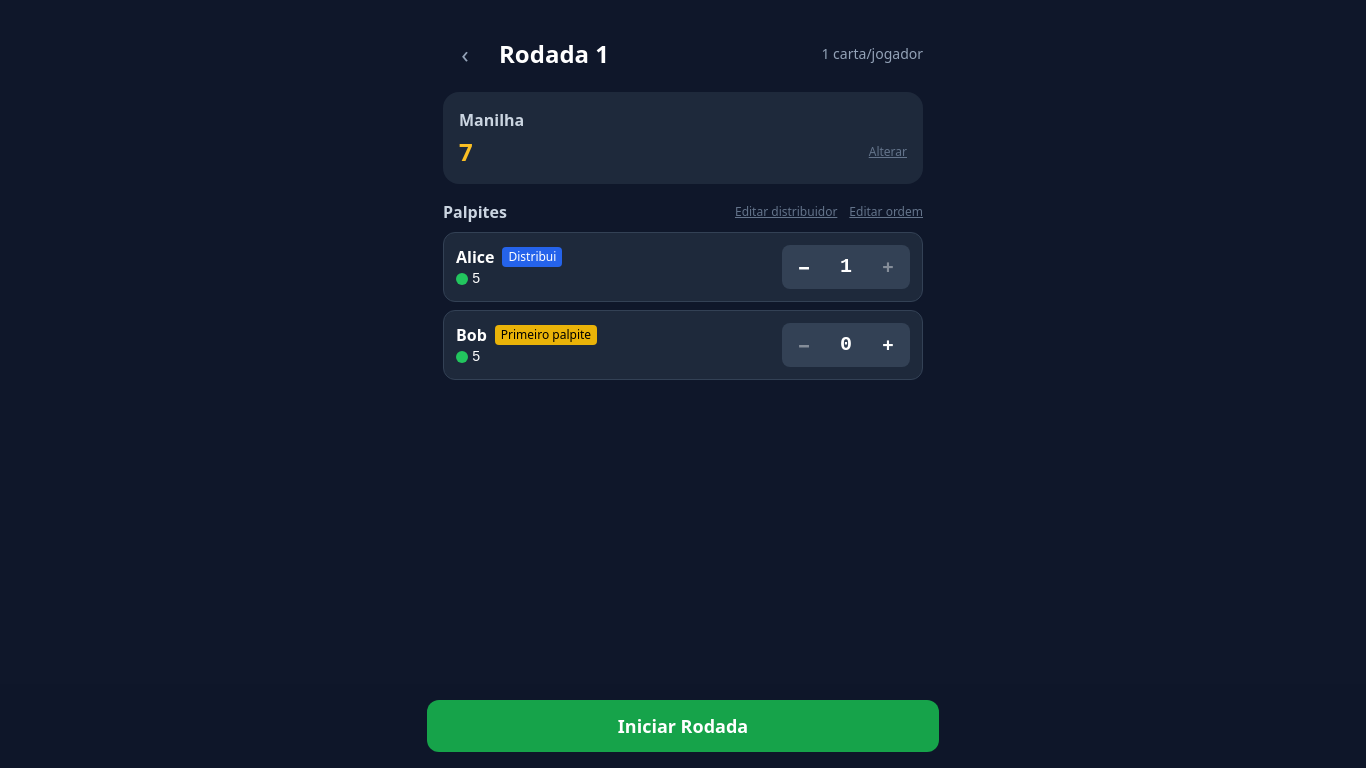
it: BidPhase — edit order button › clicking "Editar ordem" opens PlayerOrderModal
Click the button "Editar ordem" at (886, 212), box [849,204,923,220]
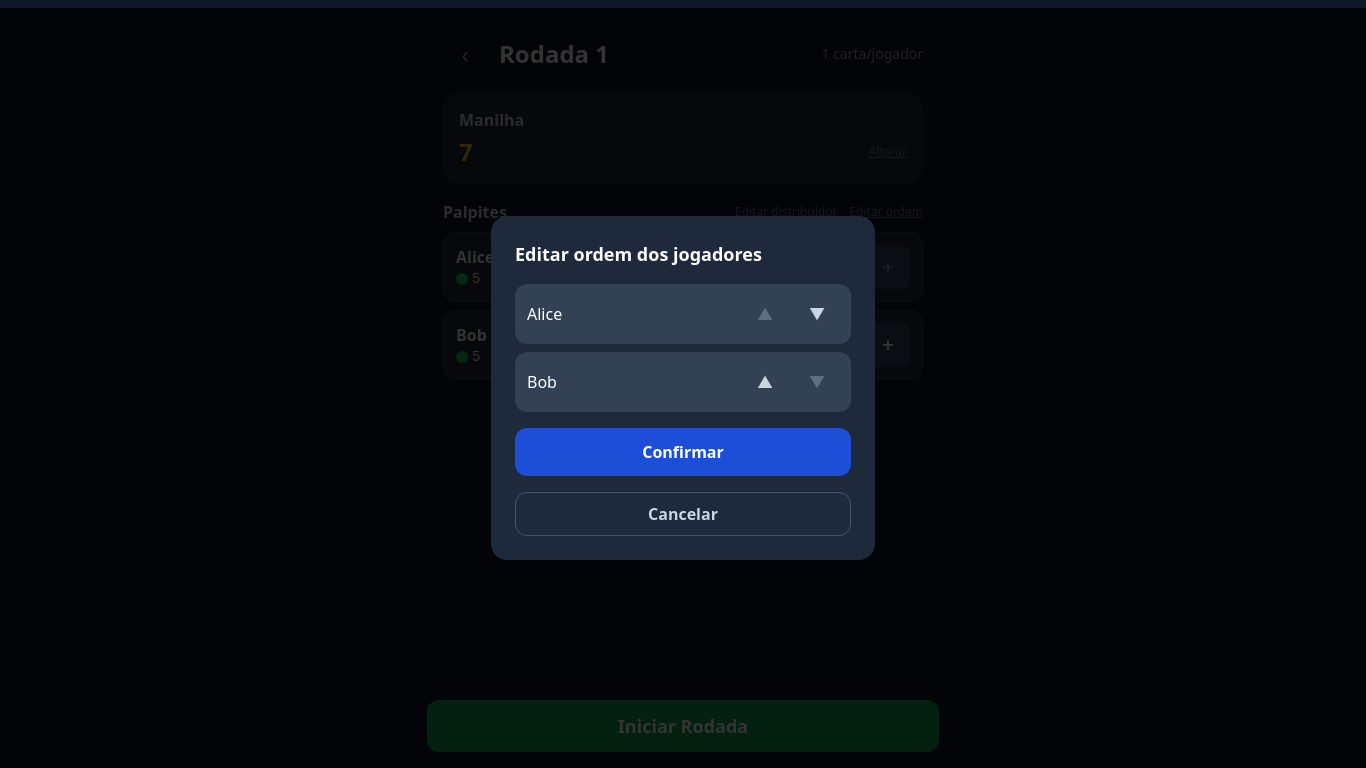
Now the heading "Editar ordem dos jogadores" is shown, box [515,242,762,266]
